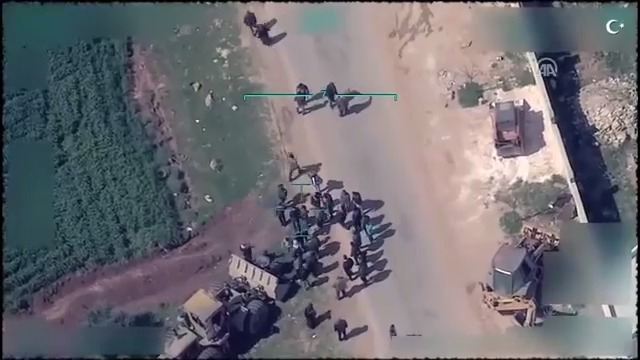insan: (284, 150, 303, 184), (252, 19, 275, 46), (303, 298, 323, 329), (334, 315, 353, 341), (341, 254, 356, 283), (244, 7, 262, 31), (274, 202, 291, 227)
